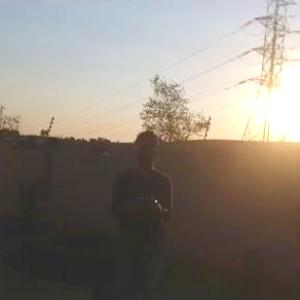follow: (106, 127, 178, 299)
